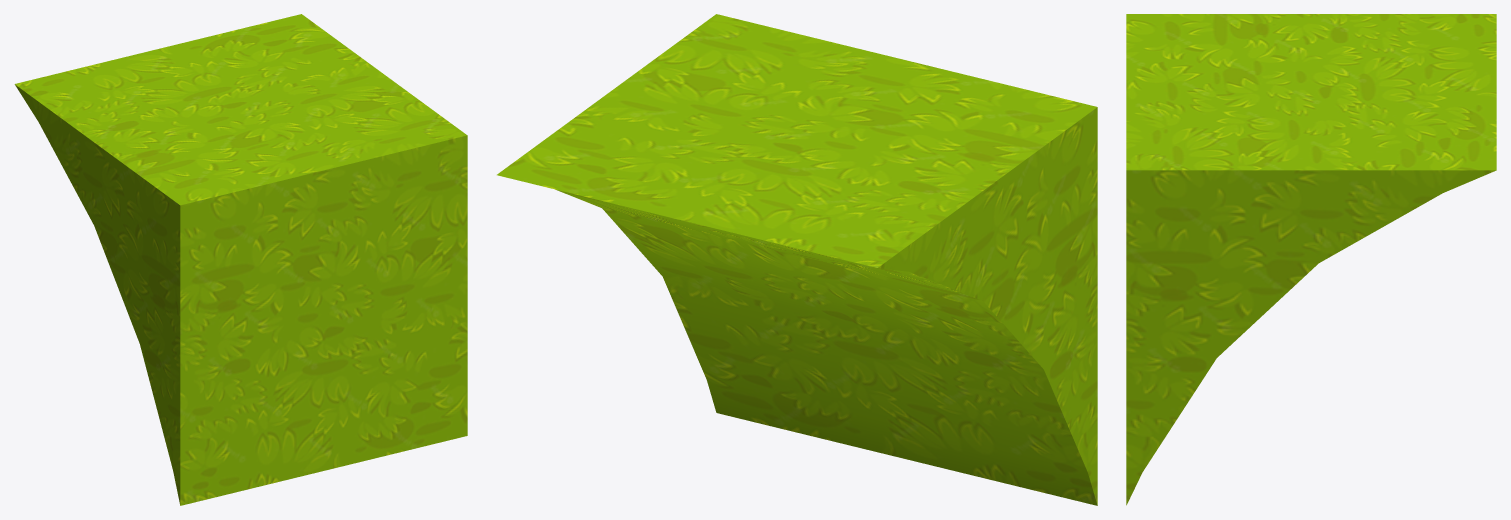
File: POL0310008.fbx
3 views of the same model, side by side, from view 1: azimuth 30°, elevation 25°; view 2: azimuth 150°, elevation 25°; view 3: azimuth 270°, elevation 25° (orthographic). The views are drawn at different scales.
Visible parts, largest first — view 1: smPOL0310008; view 2: smPOL0310008; view 3: smPOL0310008.
Boxes of the visible parts, x1,y1,x2,y2 form: smPOL0310008: [14, 14, 467, 505]; smPOL0310008: [497, 14, 1097, 505]; smPOL0310008: [1126, 14, 1496, 505].
Bounding box in the file's own units: 161 × 161 × 161.
1 material, 1 textured.
